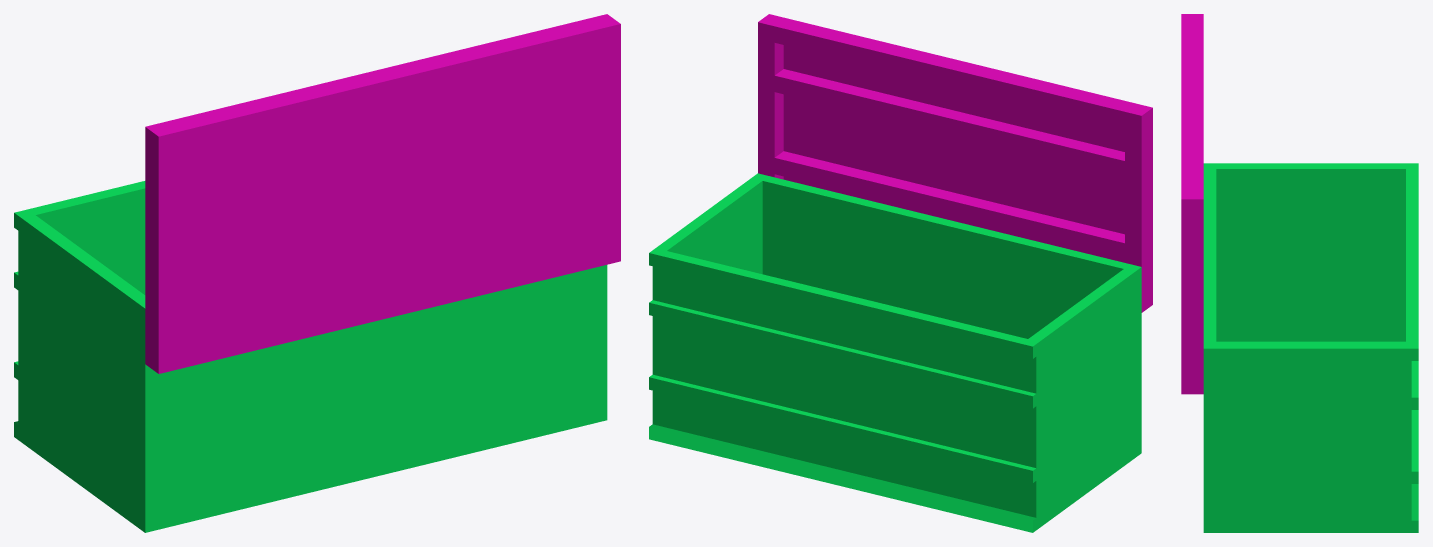
File: garbage_bin.fbx
3 renders of one model, left to right at view 1: azimuth 30°, elevation 25°; view 2: azimuth 150°, elevation 25°; view 3: azimuth 270°, elevation 25°, orthographic. The views are drawn at different scales.
Parts seen in each view (by area): view 1: garbage_bin; view 2: garbage_bin; view 3: garbage_bin.
Boxes of the visible parts, <box> form: garbage_bin: <box>14,14,620,532</box>; garbage_bin: <box>649,14,1152,532</box>; garbage_bin: <box>1181,14,1418,532</box>.
Bounding box in the file's own units: 364 × 306 × 198.
